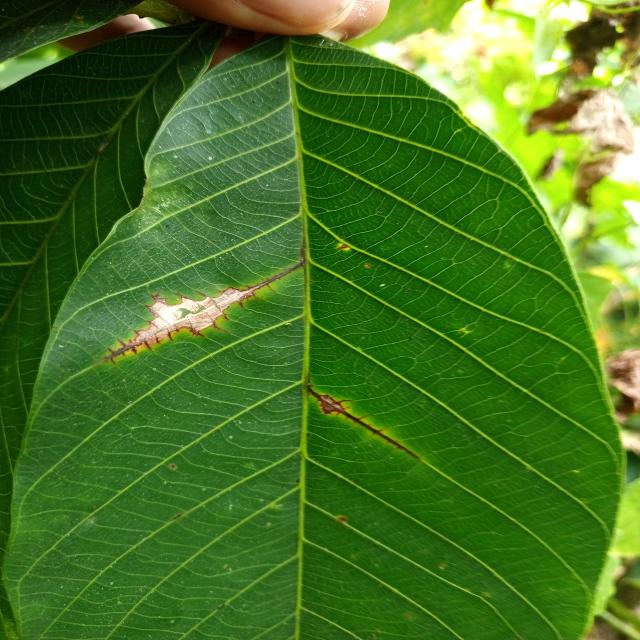Corynespora: (308, 377, 420, 460)
